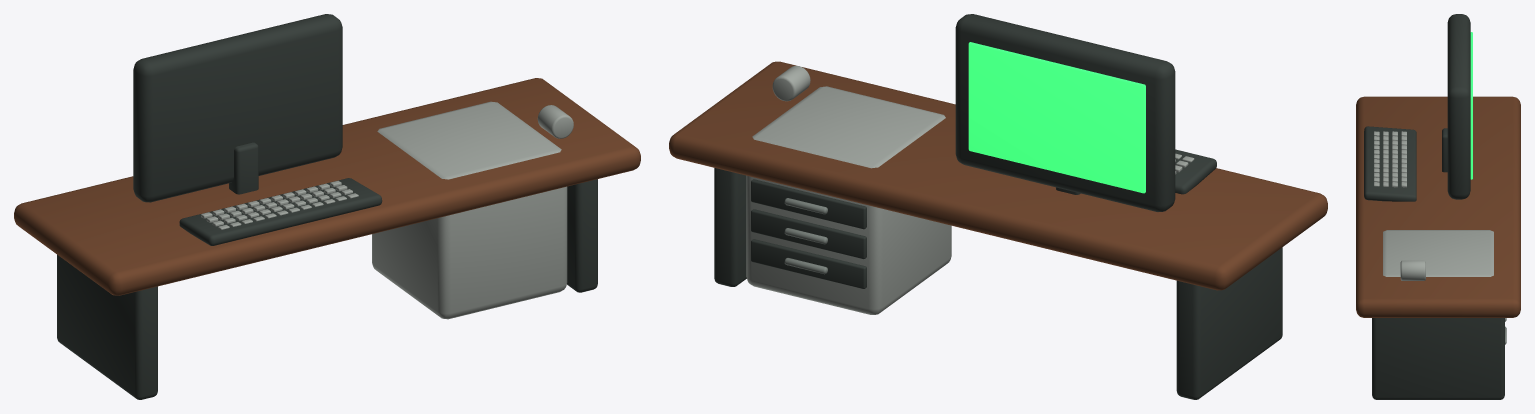
The model's file is desk_station.glb.
3 views of the same model, side by side, from view 1: azimuth 30°, elevation 25°; view 2: azimuth 150°, elevation 25°; view 3: azimuth 270°, elevation 25° (orthographic). The views are drawn at different scales.
Parts seen in each view (by area): view 1: Desk_Top, Monitor_Housing, Desk_Drawers, Desk_LegL, Keyboard, Desk_LegR, Monitor_Stand, Mug; view 2: Desk_Top, Desk_Drawers, Terminal_Screen, Monitor_Housing, Desk_LegL, Desk_LegR, Drawer_0.3, Drawer_0.74, Drawer_0.52, Keyboard, Mug; view 3: Desk_Top, Desk_LegR, Desk_Drawers, Monitor_Housing, Keyboard, Mug, Terminal_Screen, Monitor_Stand.
Boxes of the visible parts, box(x1,y1,x2,y2) form: Desk_Top: box(14, 78, 640, 295); Monitor_Housing: box(133, 14, 342, 202); Desk_Drawers: box(372, 101, 567, 319); Desk_LegL: box(57, 254, 157, 399); Keyboard: box(179, 178, 382, 245); Desk_LegR: box(567, 179, 597, 292); Monitor_Stand: box(229, 142, 258, 194); Mug: box(537, 105, 573, 138); Desk_Top: box(669, 61, 1327, 290); Desk_Drawers: box(746, 86, 951, 314); Terminal_Screen: box(968, 42, 1145, 193); Monitor_Housing: box(955, 14, 1175, 211); Desk_LegL: box(1176, 247, 1282, 399); Desk_LegR: box(714, 168, 746, 286); Drawer_0.3: box(751, 239, 866, 288); Drawer_0.74: box(751, 179, 866, 229); Drawer_0.52: box(751, 209, 866, 259); Keyboard: box(1175, 149, 1216, 194); Mug: box(772, 66, 810, 101); Desk_Top: box(1356, 96, 1520, 317); Desk_LegR: box(1372, 318, 1504, 399); Desk_Drawers: box(1383, 230, 1493, 276); Monitor_Housing: box(1447, 14, 1470, 199); Keyboard: box(1364, 126, 1416, 201); Mug: box(1400, 260, 1425, 280); Terminal_Screen: box(1470, 32, 1472, 179); Monitor_Stand: box(1442, 128, 1447, 172).
Bounding box in the file's own units: 4.3 × 2.22 × 1.44.
